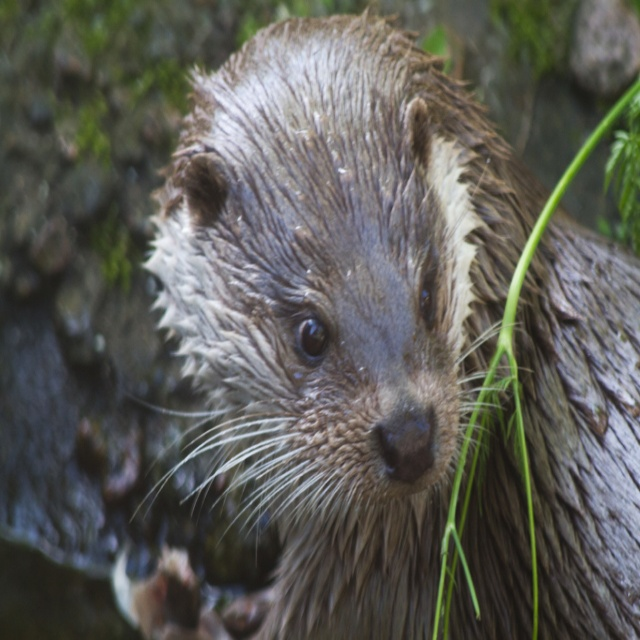Otter: (116, 13, 639, 640)
